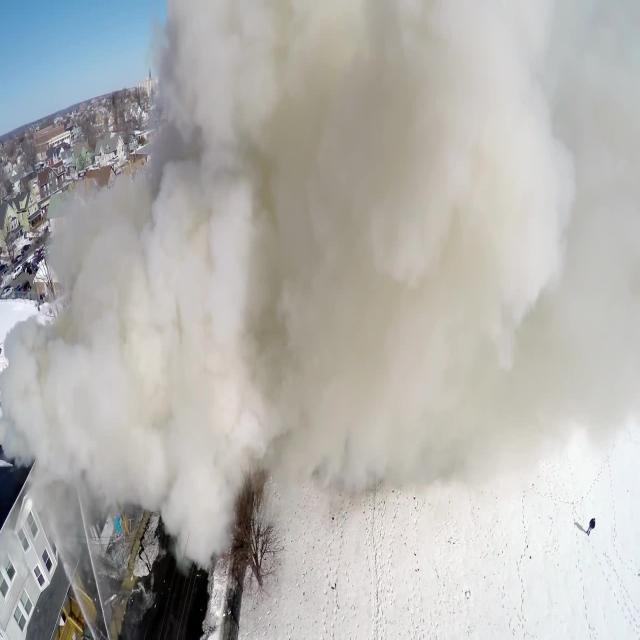Smoke: (166, 0, 630, 482), (17, 241, 240, 476)
